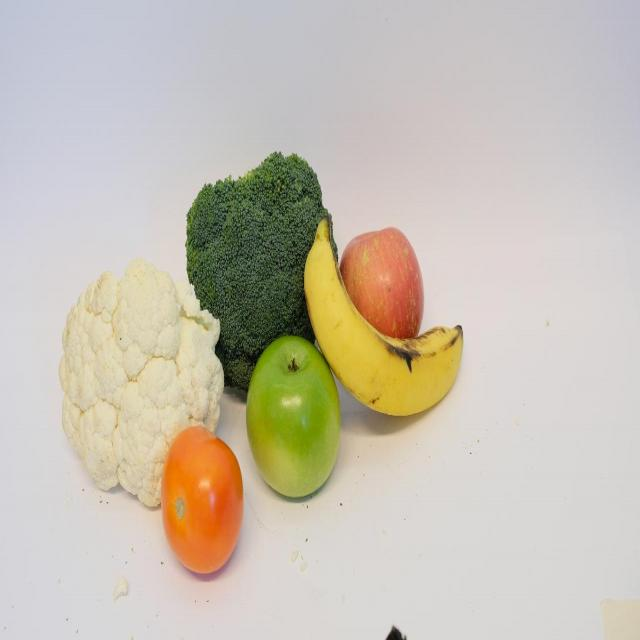apple: (241, 326, 345, 504), (336, 220, 430, 342)
banana: (300, 208, 471, 434)
broccoli: (180, 137, 341, 410)
cauliflower: (55, 256, 228, 516)
tomato: (159, 420, 245, 580)
